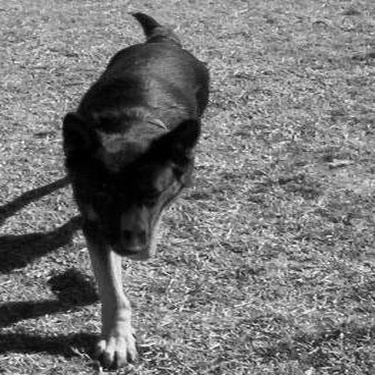dog: (41, 4, 219, 370)
